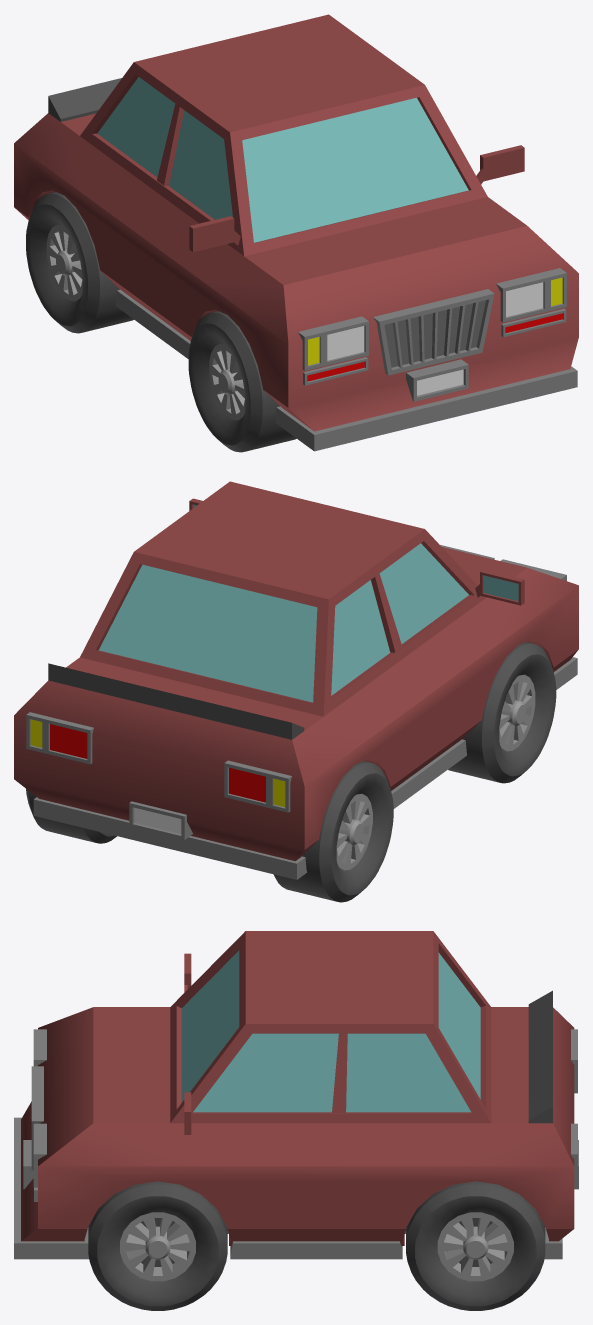
The model's file is Carritosedan.fbx.
The picture shows the model from 3 angles, top to bottom: view 1: azimuth 30°, elevation 25°; view 2: azimuth 150°, elevation 25°; view 3: azimuth 270°, elevation 25°; orthographic projection. The views are drawn at different scales.
Parts seen in each view (by area): view 1: polySurface1, pCylinder2, polySurface2, pCube2, pCube1, pCube5, pCube3, pCube4; view 2: polySurface1, pCylinder2, polySurface2, pCube1, pCube4, pCube5; view 3: polySurface1, pCylinder2, polySurface2, pCube1, pCube2, pCube5, pCube4.
Boxes of the visible parts, box(x1,y1,x2,y2) form: polySurface1: box(14, 14, 578, 431); pCylinder2: box(26, 192, 296, 452); polySurface2: box(115, 289, 577, 451); pCube2: box(373, 289, 494, 375); pCube1: box(298, 268, 566, 370); pCube5: box(189, 145, 524, 252); pCube3: box(303, 308, 566, 385); pCube4: box(406, 359, 468, 401); polySurface1: box(14, 481, 578, 861); pCylinder2: box(26, 642, 556, 902); polySurface2: box(33, 657, 577, 879); pCube1: box(26, 559, 566, 812); pCube4: box(129, 801, 193, 840); pCube5: box(189, 498, 524, 605); polySurface1: box(21, 931, 574, 1245); pCylinder2: box(88, 1181, 545, 1310); polySurface2: box(14, 1117, 562, 1259); pCube1: box(33, 1029, 577, 1187); pCube2: box(31, 1066, 43, 1170); pCube5: box(184, 953, 191, 1134); pCube4: box(23, 1140, 578, 1189).
Size of the model in its own units: 3.07 by 2.39 by 4.63.
